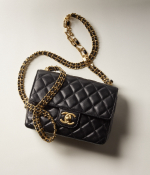channel: (20, 64, 118, 148), (37, 76, 68, 126), (71, 84, 103, 114), (57, 108, 81, 133)
